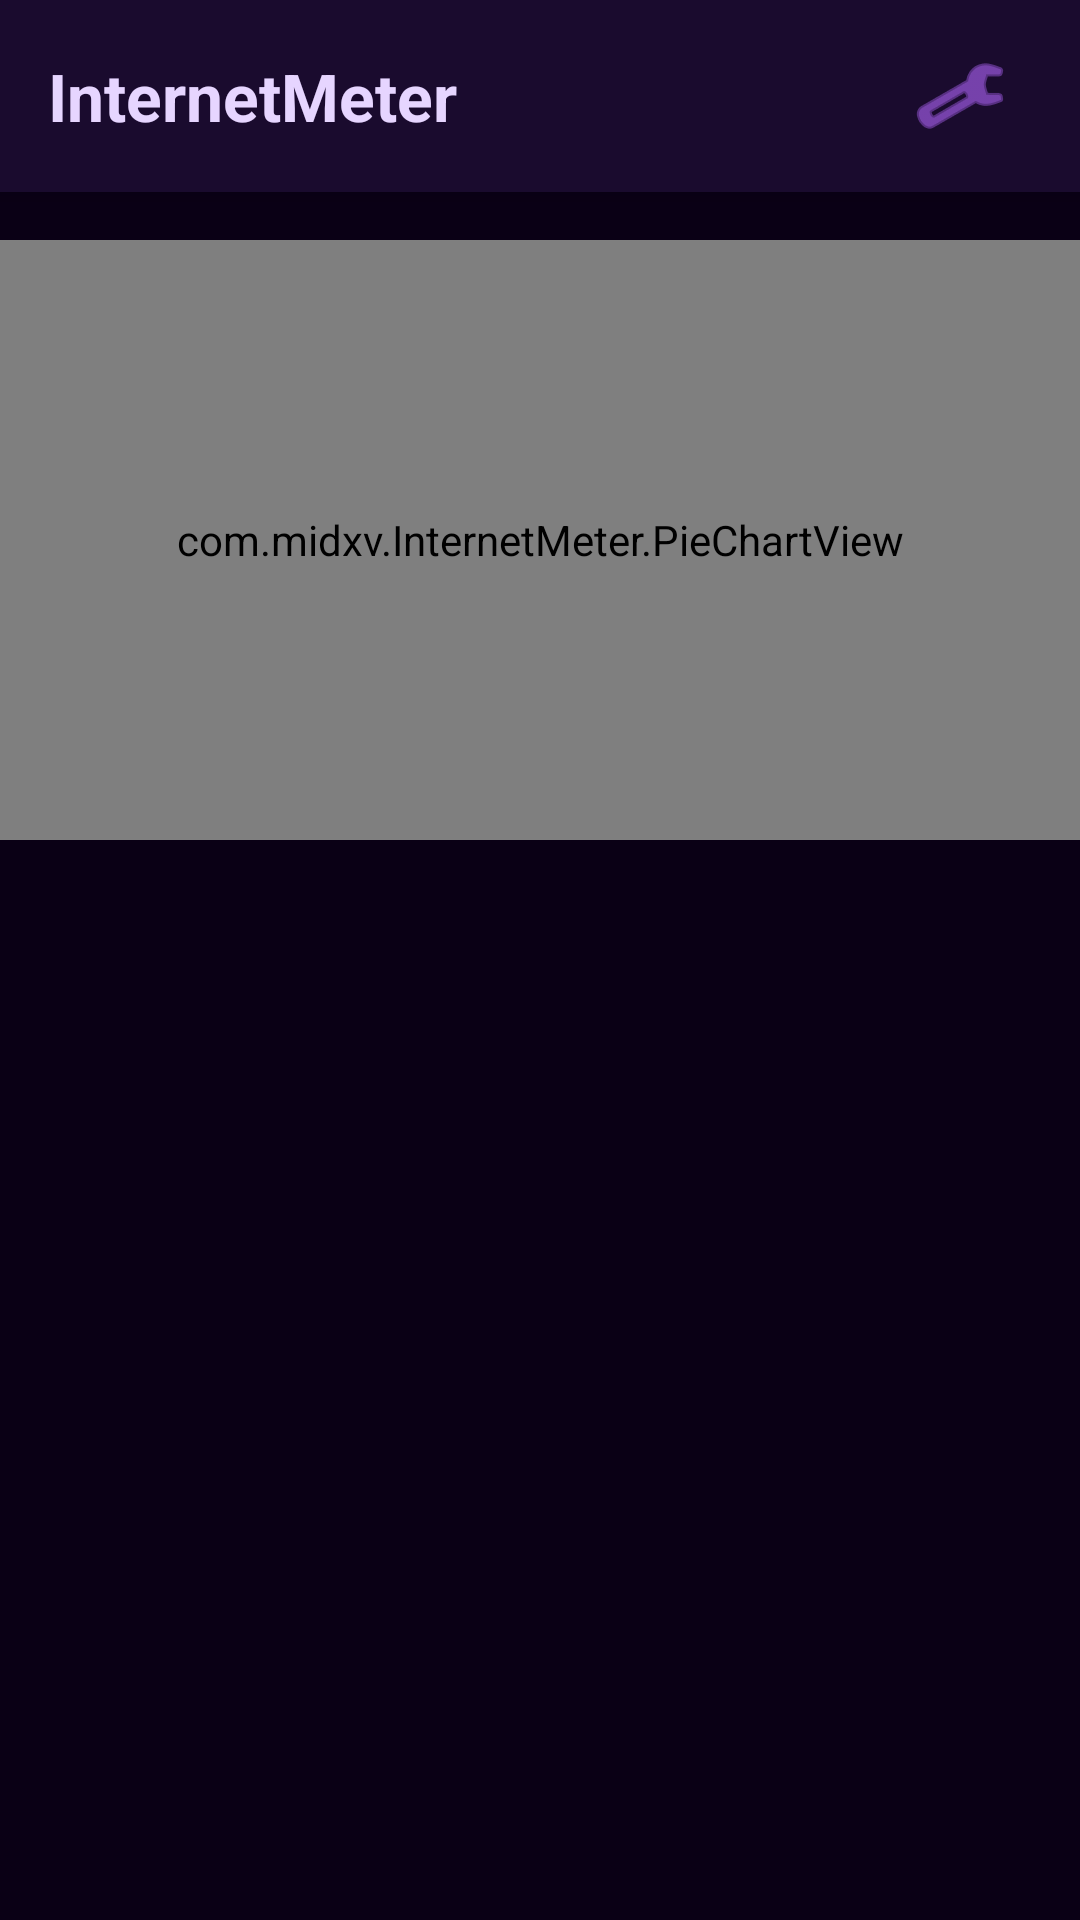

Icon click points for this 1080px×1920px phone screenshot, format (x,y):
preferences: (960,96)
